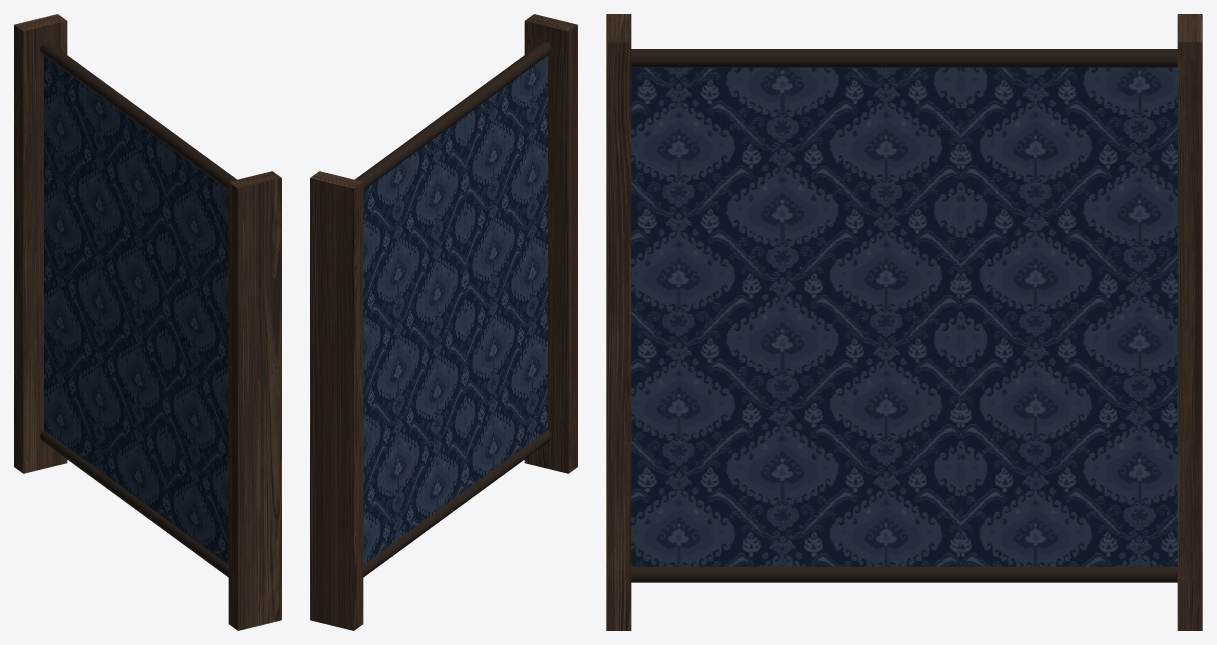
File: F_Curtain_02.fbx
3 views of the same model, side by side, from view 1: azimuth 30°, elevation 25°; view 2: azimuth 150°, elevation 25°; view 3: azimuth 270°, elevation 25° (orthographic). The views are drawn at different scales.
Parts seen in each view (by area): view 1: F_Curtain; view 2: F_Curtain; view 3: F_Curtain.
Part boxes in pixels (<box>): F_Curtain: <box>14,14,281,630</box>; F_Curtain: <box>310,14,577,630</box>; F_Curtain: <box>606,14,1202,630</box>.
Bounding box in the file's own units: 20.75 × 200 × 184.
